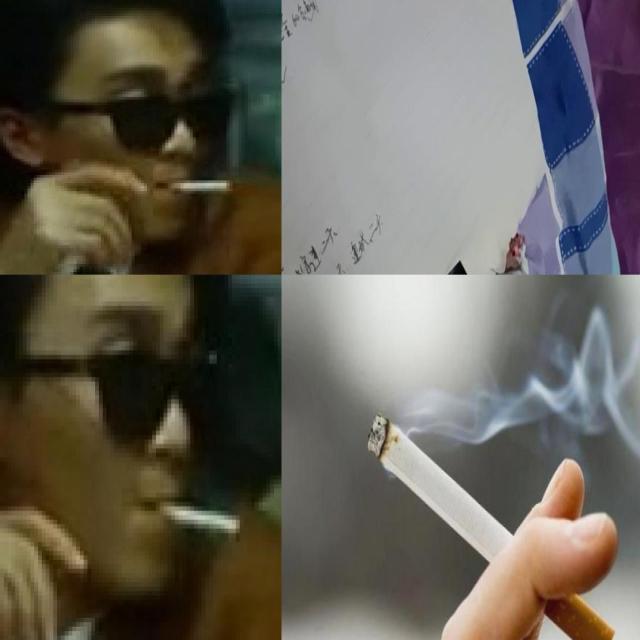smoking: (368, 414, 616, 639), (144, 496, 242, 536), (487, 233, 528, 274), (159, 180, 231, 194)
